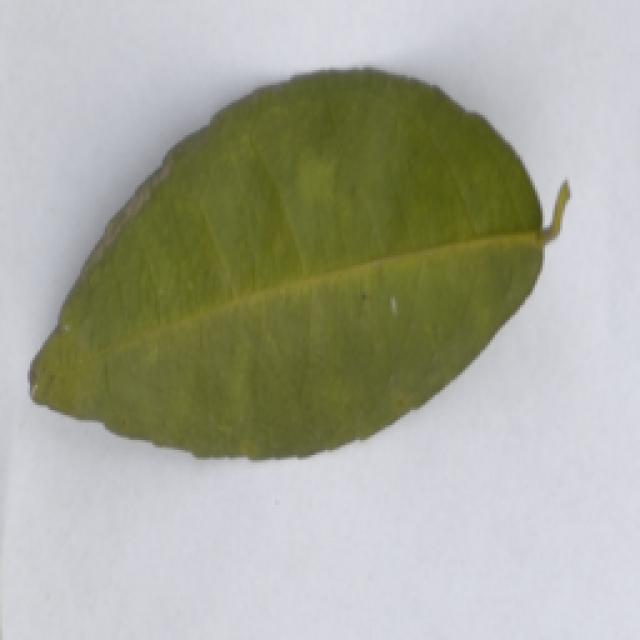healthy: (16, 60, 582, 480)
